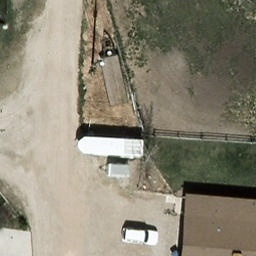car: (120, 227, 159, 250)
